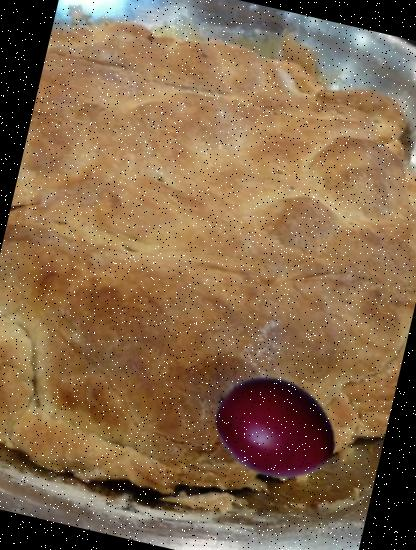Tamarillo: (191, 346, 351, 506)
